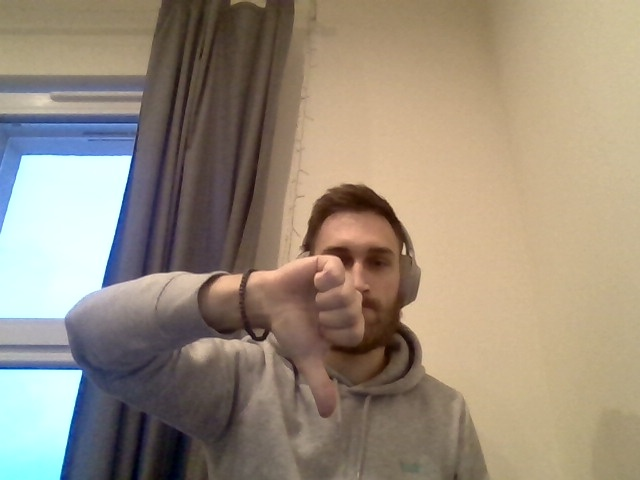ThumbsDown: (259, 253, 362, 417)
